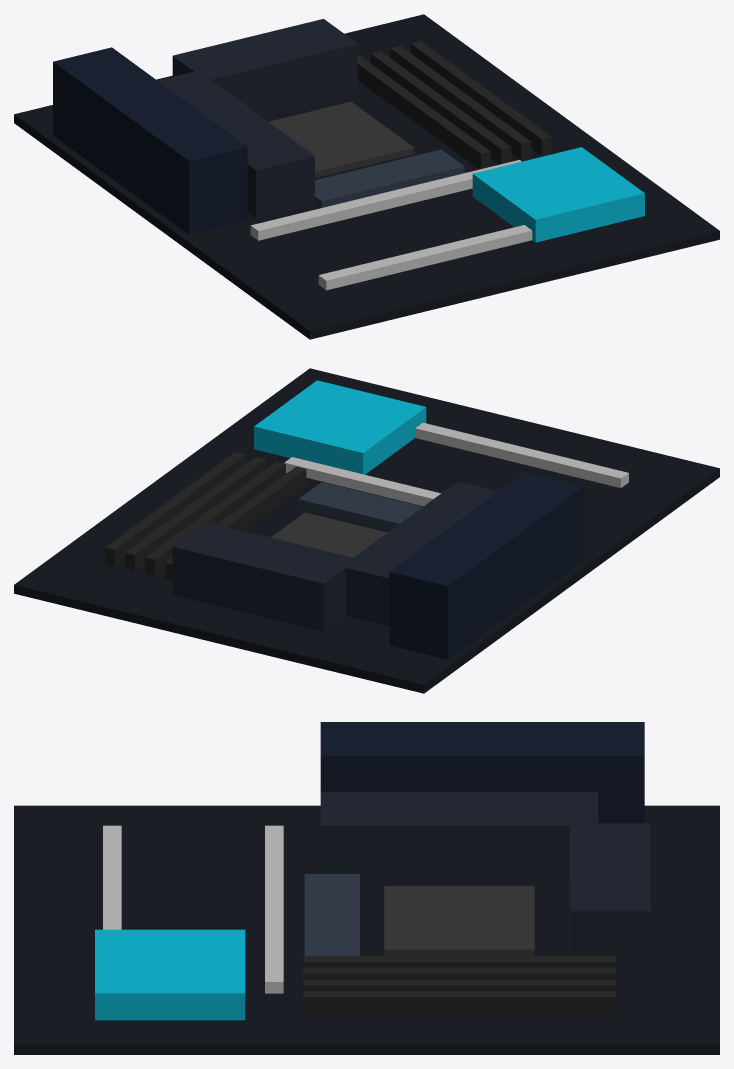
The model's file is motherboard.glb.
3 views of the same model, one above another, from view 1: azimuth 30°, elevation 25°; view 2: azimuth 150°, elevation 25°; view 3: azimuth 270°, elevation 25° (orthographic). The views are drawn at different scales.
Size of the model in its own units: 2.44 by 0.47 by 3.05.
